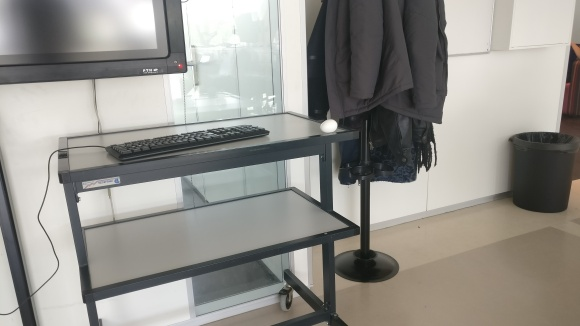egg: (319, 118, 338, 133)
